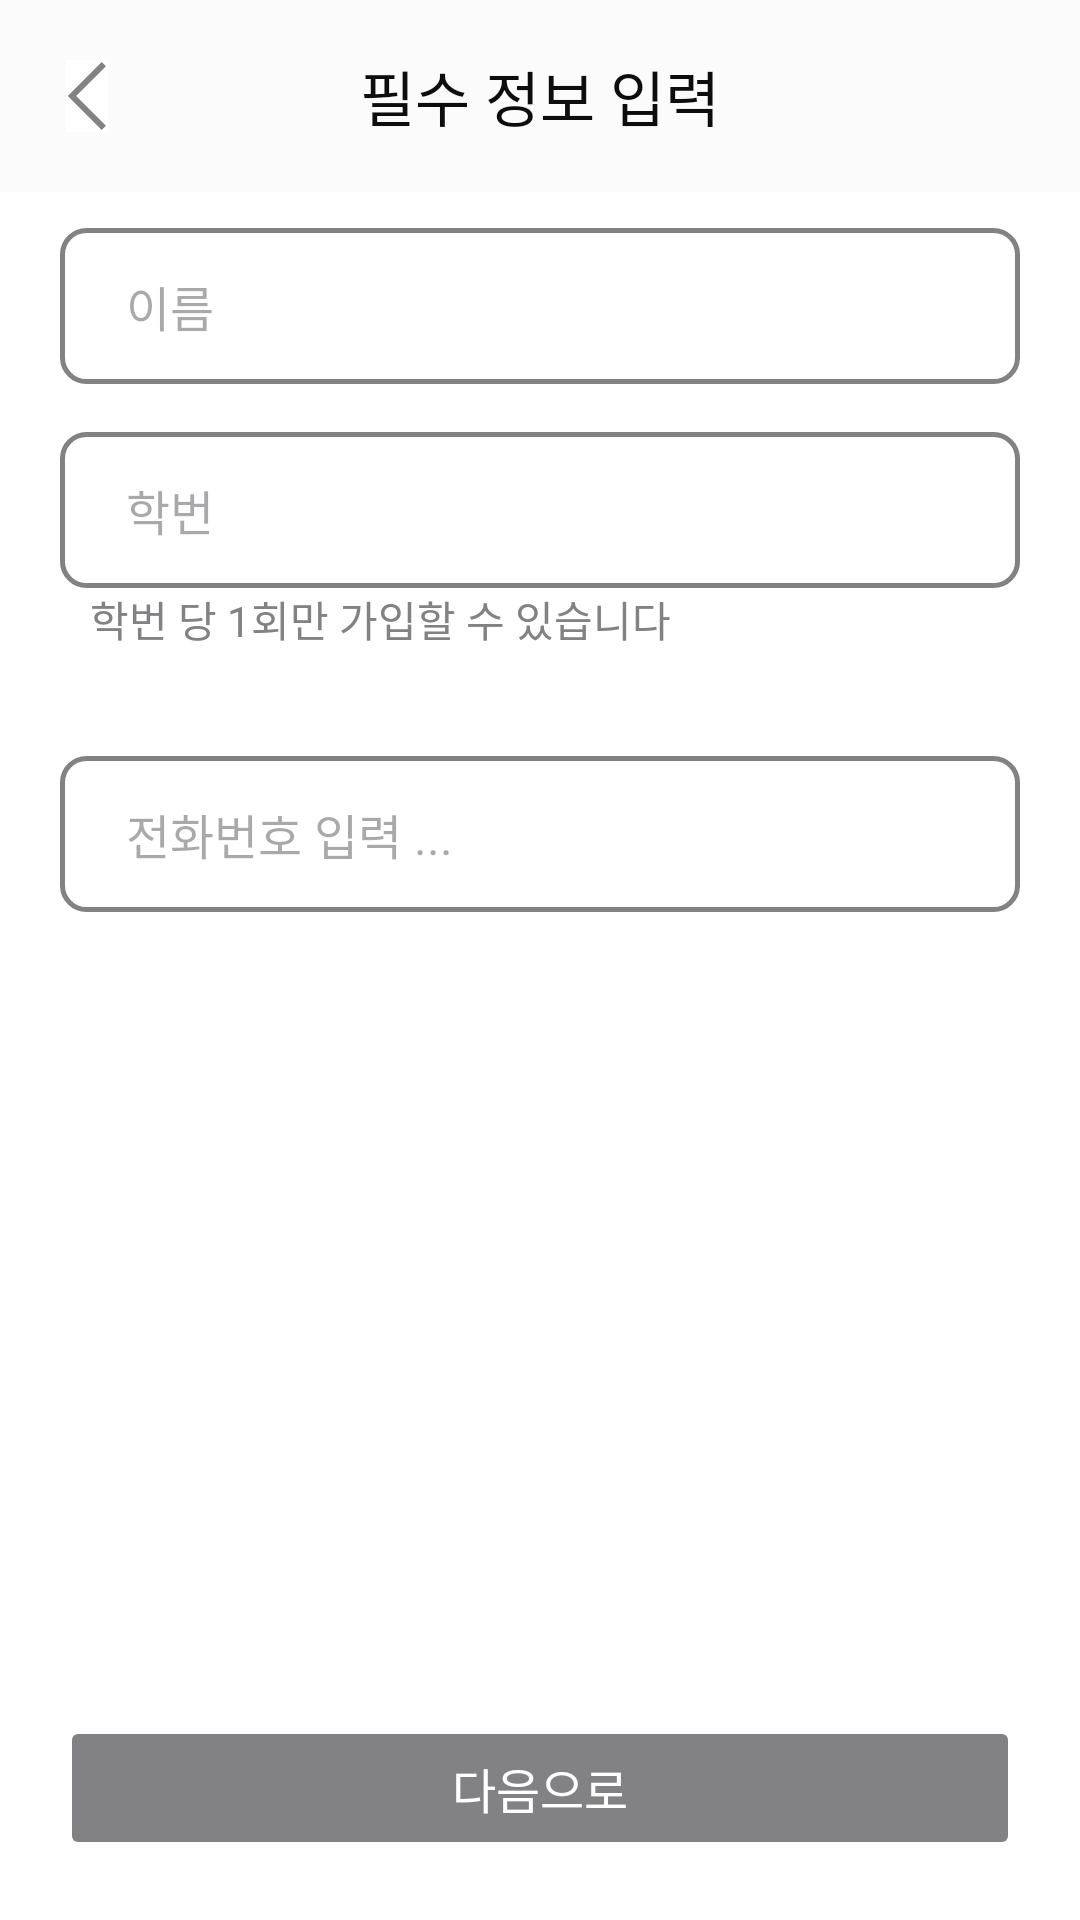

Screen size 1080 × 1920. Icon name, then its center in pixels as (x=x, y=y):
navigation: (x=87, y=96)
